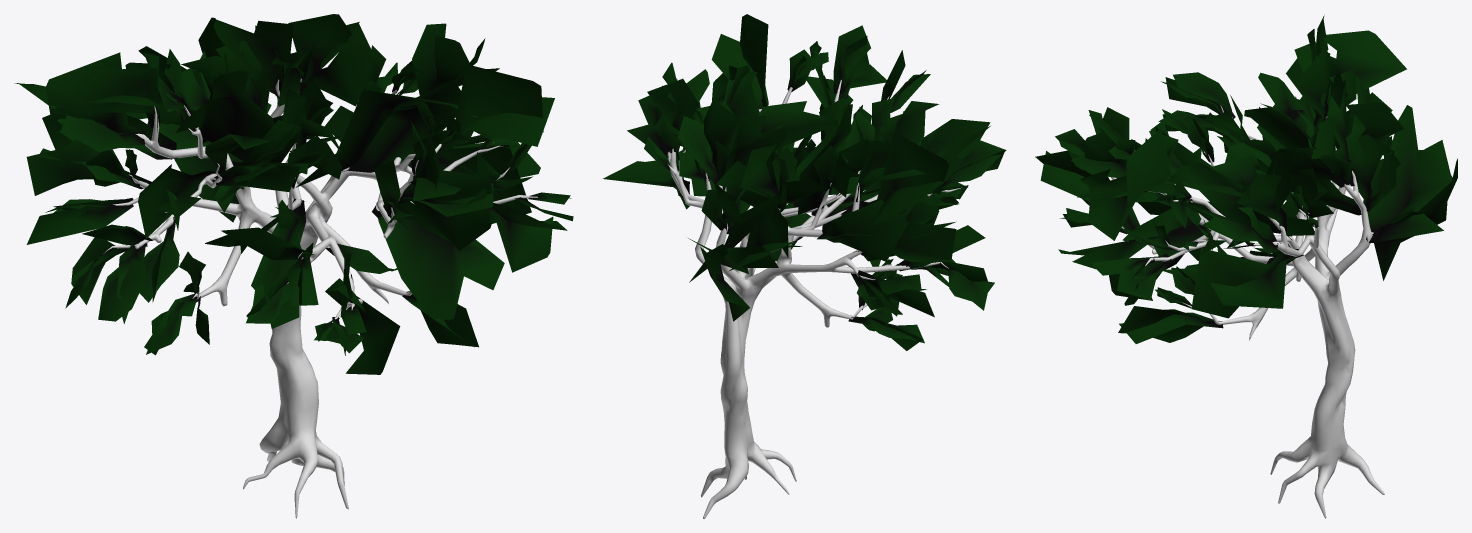
Rendered from DeadTreeCATAM_A.fbx.
3 views of the same model, side by side, from view 1: azimuth 30°, elevation 25°; view 2: azimuth 150°, elevation 25°; view 3: azimuth 270°, elevation 25° (orthographic). The views are drawn at different scales.
Visible parts, largest first — view 1: DeadTreeCATAM_A_Leaves_LOD0, DeadTreeCATAM_A_Trunk_LOD0; view 2: DeadTreeCATAM_A_Leaves_LOD0, DeadTreeCATAM_A_Trunk_LOD0; view 3: DeadTreeCATAM_A_Leaves_LOD0, DeadTreeCATAM_A_Trunk_LOD0.
Part boxes in pixels (bbox=[...]): DeadTreeCATAM_A_Leaves_LOD0: bbox=[14, 14, 573, 374]; DeadTreeCATAM_A_Trunk_LOD0: bbox=[103, 78, 537, 518]; DeadTreeCATAM_A_Leaves_LOD0: bbox=[603, 14, 1006, 350]; DeadTreeCATAM_A_Trunk_LOD0: bbox=[667, 80, 961, 518]; DeadTreeCATAM_A_Leaves_LOD0: bbox=[1035, 15, 1457, 343]; DeadTreeCATAM_A_Trunk_LOD0: bbox=[1111, 105, 1384, 518].
Size of what is drawn, in the model's own units: 12.85 by 13.24 by 12.69.
